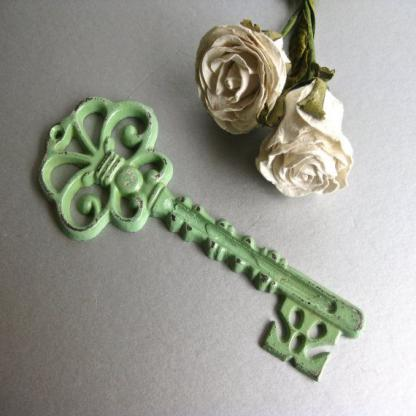key: (26, 88, 371, 384)
